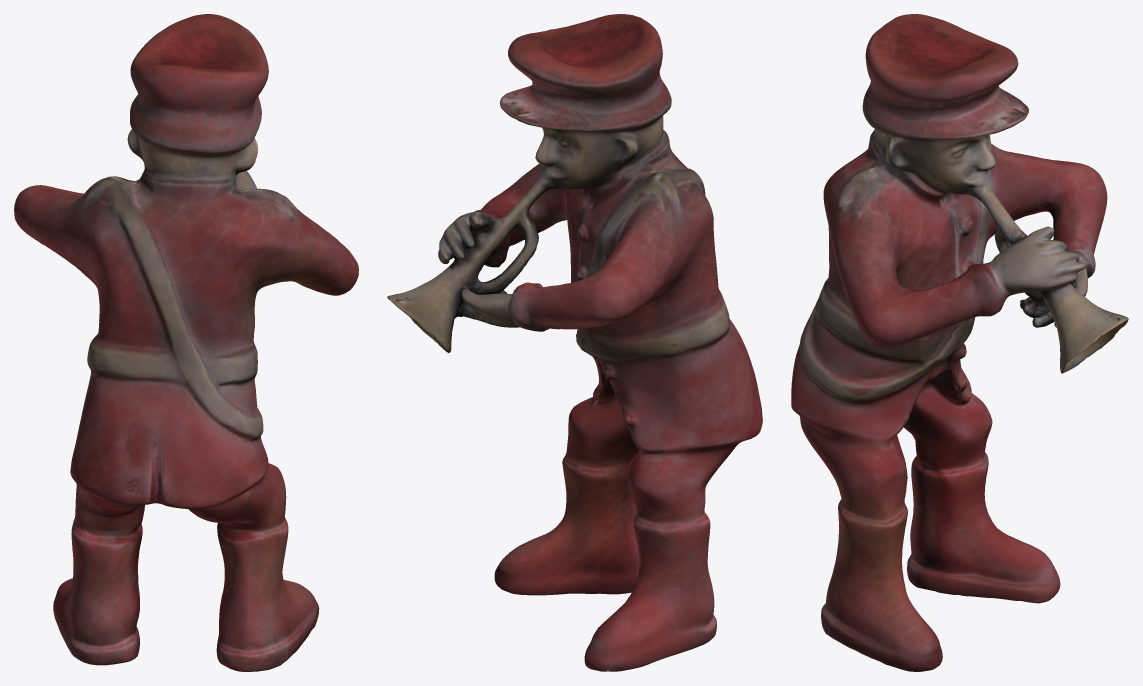
File: khanna-bandwalla.glb
3 views of the same model, side by side, from view 1: azimuth 30°, elevation 25°; view 2: azimuth 150°, elevation 25°; view 3: azimuth 270°, elevation 25° (orthographic).
Parts seen in each view (by area): view 1: Mesh; view 2: Mesh; view 3: Mesh.
Boxes of the visible parts, left/top/right/bottom form: Mesh: left=14, top=14, right=358, bottom=671; Mesh: left=387, top=14, right=762, bottom=671; Mesh: left=791, top=14, right=1128, bottom=671.
Size of the model in its own units: 13.28 by 27.42 by 14.24.
1 material, 1 textured.
